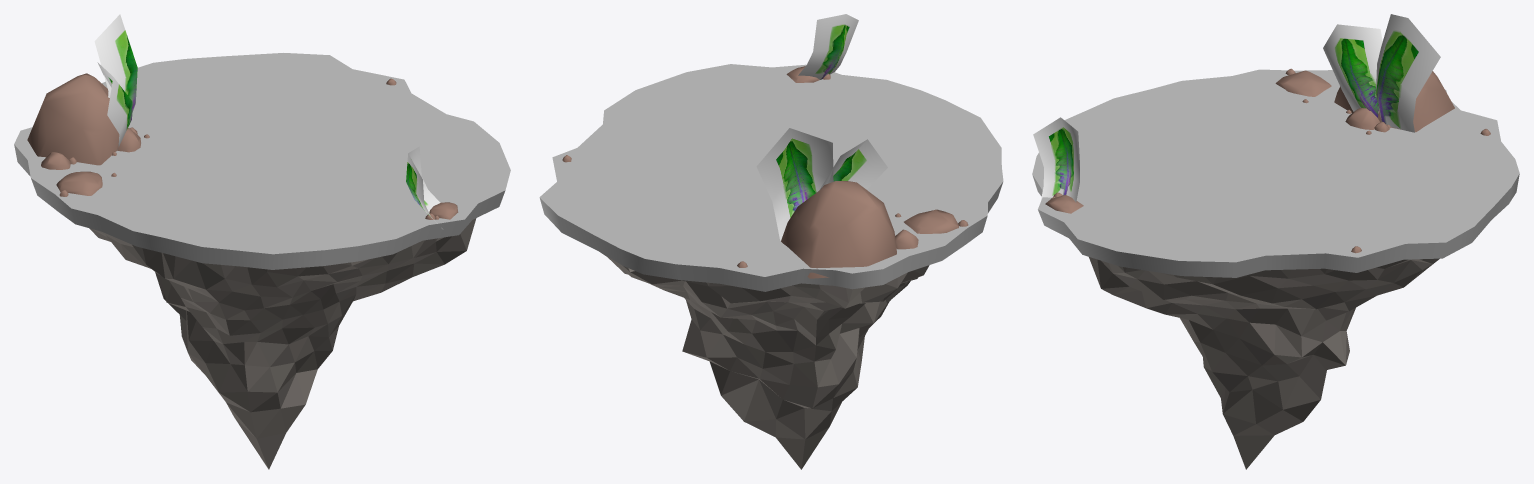
File: Asteroid_Small_2.fbx
The picture shows the model from 3 angles, left to right: view 1: azimuth 30°, elevation 25°; view 2: azimuth 150°, elevation 25°; view 3: azimuth 270°, elevation 25°; orthographic projection.
Visible parts, largest first — view 1: Asteroid_Small_2; view 2: Asteroid_Small_2; view 3: Asteroid_Small_2.
Boxes of the visible parts, x1,y1,x2,y2 form: Asteroid_Small_2: (14,14,510,469); Asteroid_Small_2: (539,14,1003,469); Asteroid_Small_2: (1032,14,1519,469).
Size of the model in its own units: 53.55 by 54.16 by 57.23.
6 materials, 3 textured.
